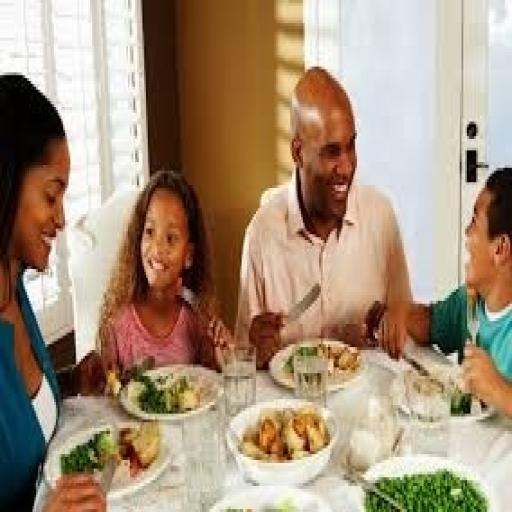eating: (2, 58, 508, 500)
